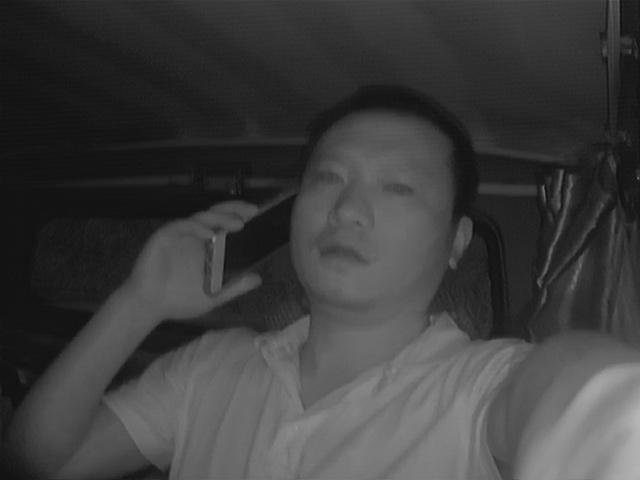hand: (140, 202, 261, 315)
